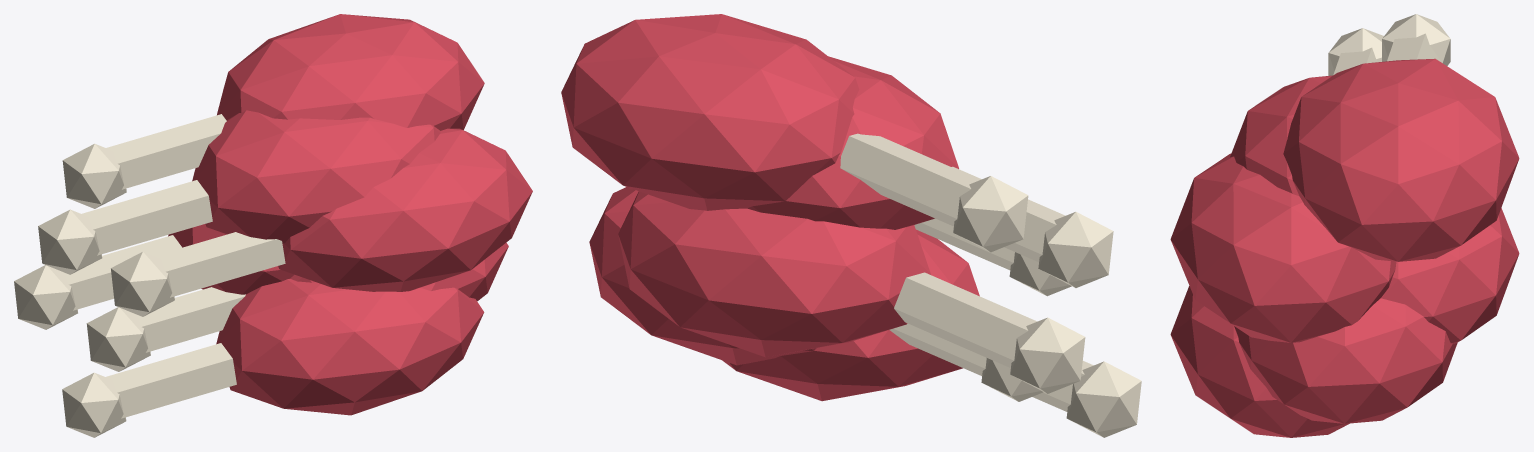
Rendered from item_025_dried_meat_l.glb.
The picture shows the model from 3 angles, left to right: view 1: azimuth 30°, elevation 25°; view 2: azimuth 150°, elevation 25°; view 3: azimuth 270°, elevation 25°; orthographic projection. The views are drawn at different scales.
Parts seen in each view (by area): view 1: item_025_dried_meat_l; view 2: item_025_dried_meat_l; view 3: item_025_dried_meat_l.
Boxes of the visible parts, x1,y1,x2,y2 form: item_025_dried_meat_l: [14, 14, 532, 437]; item_025_dried_meat_l: [561, 14, 1141, 437]; item_025_dried_meat_l: [1170, 14, 1519, 437].
Bounding box in the file's own units: 0.6364 × 0.4329 × 0.3904.
